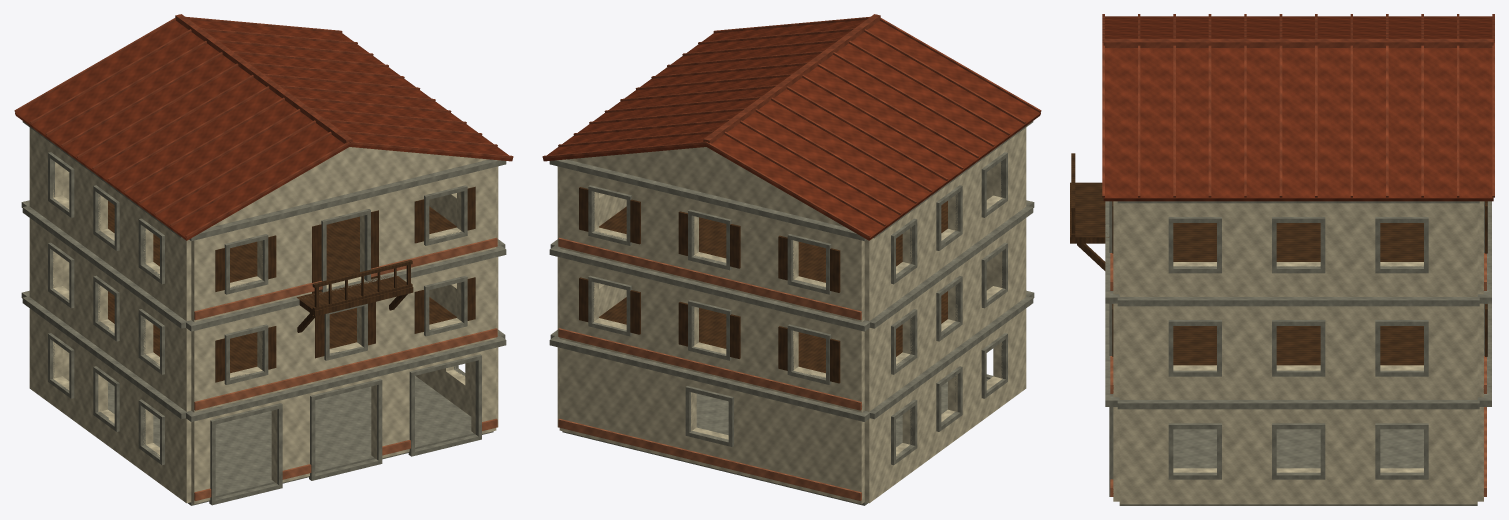
File: insula_lod1.glb
The picture shows the model from 3 angles, left to right: view 1: azimuth 30°, elevation 25°; view 2: azimuth 150°, elevation 25°; view 3: azimuth 270°, elevation 25°; orthographic projection. The views are drawn at different scales.
Visible parts, largest first — view 1: insula_lod1; view 2: insula_lod1; view 3: insula_lod1.
Boxes of the visible parts, x1,y1,x2,y2 form: insula_lod1: (14, 14, 513, 505); insula_lod1: (542, 14, 1041, 505); insula_lod1: (1070, 14, 1494, 505).
Bounding box in the file's own units: 10.83 × 10.57 × 10.68.
Materials: 6 (6 with a texture image).
